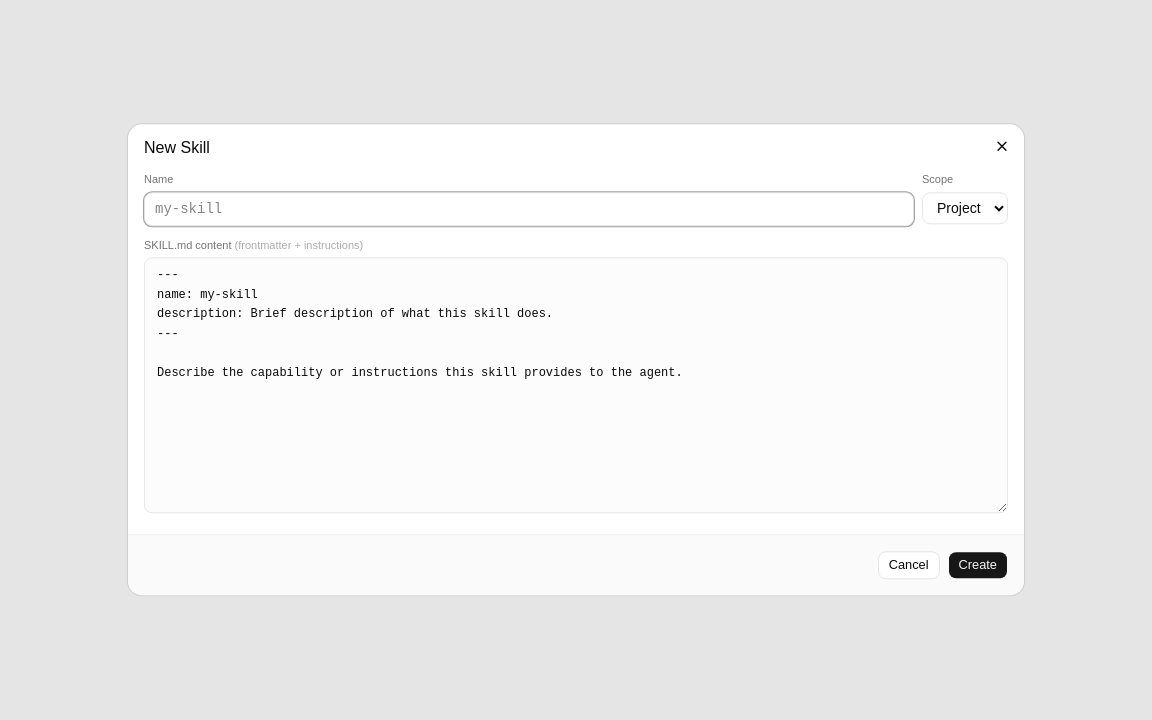
Scenario: SkillEditorModal — new skill › shows error when name is empty on create
Click the button "Create".
click(978, 566)  # box [948, 552, 1008, 580]
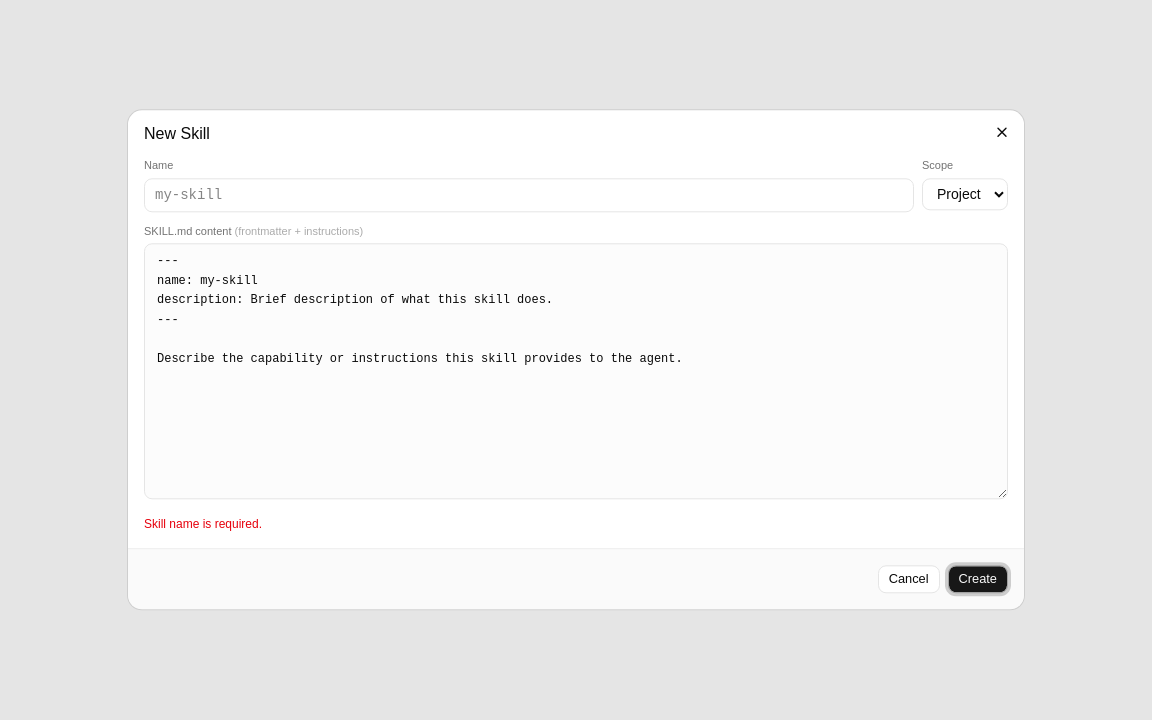
Result: the text "Skill name is required." is shown at [144, 518, 262, 532]
